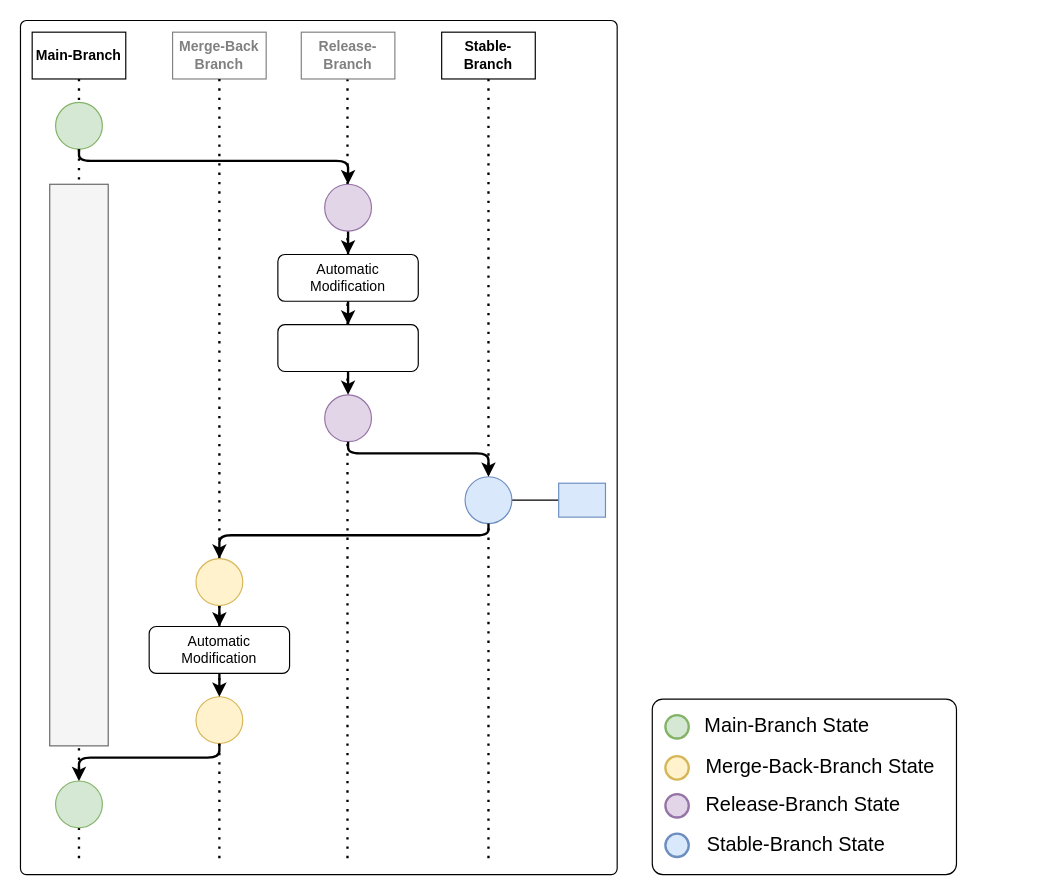
Some shapes in this 1042 by 895 pixel diagram are drawn without their labels. Each missing label, with the centre of its shape:
"Automatic Validation" goes at point (347, 347).
"Feature-Freeze" goes at point (78, 464).
"v0.2.0" goes at point (581, 499).
